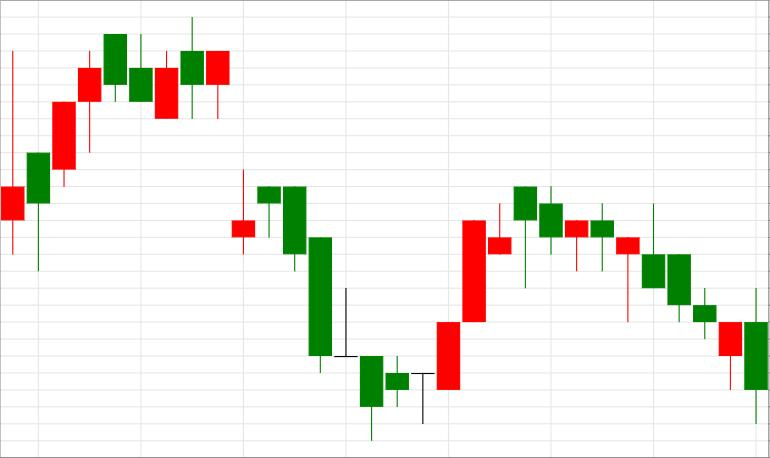hanging_man_fall: (360, 186, 537, 441)
